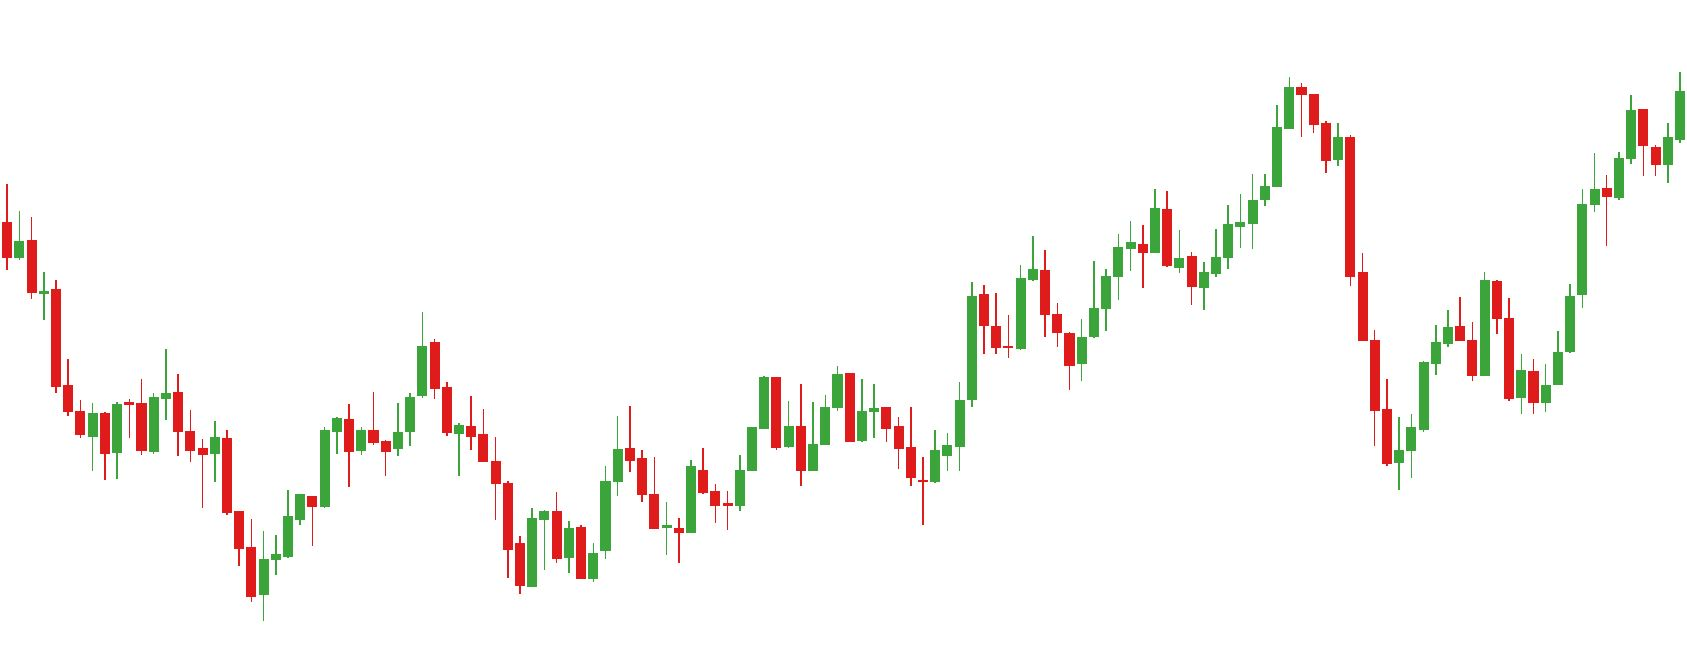buy: (304, 417, 540, 596), (794, 403, 928, 529), (987, 281, 1088, 392)
